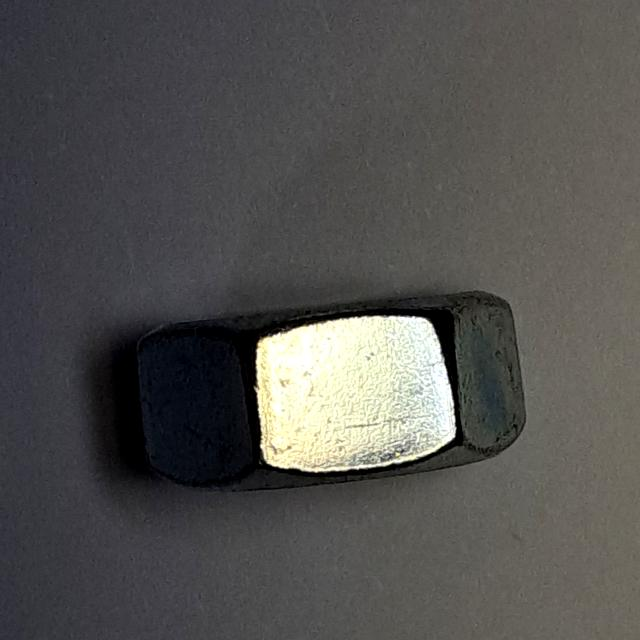Side_Excellent: (119, 273, 544, 508)
